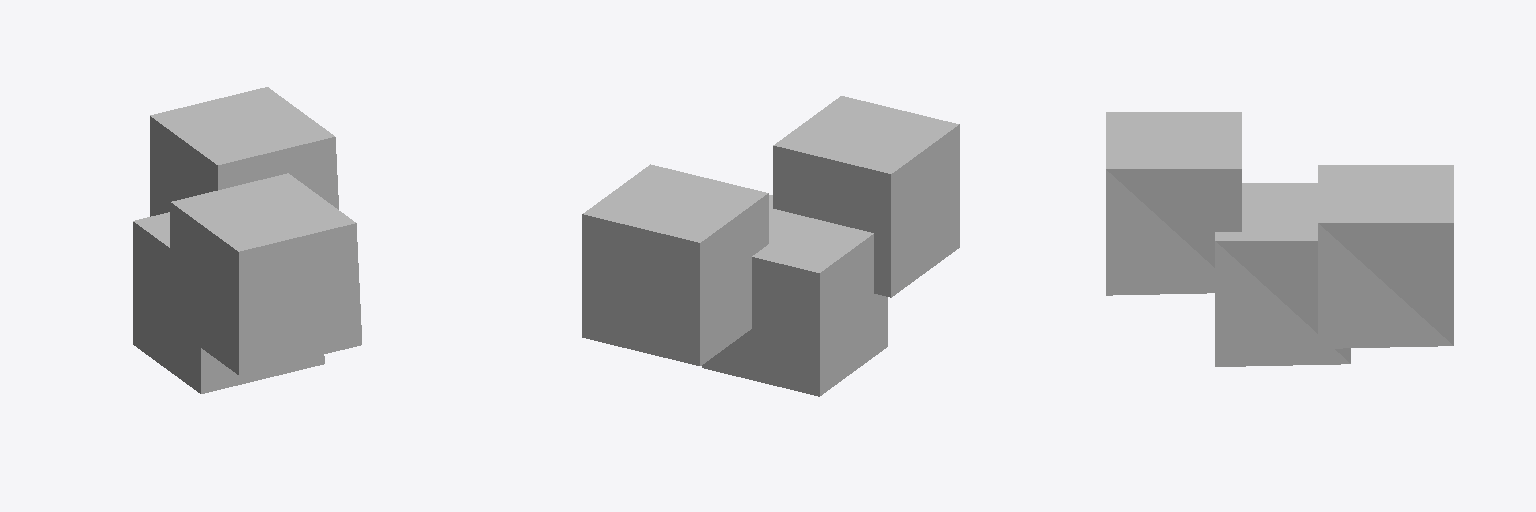
The model's file is 3cubes.obj.
3 renders of one model, left to right at view 1: azimuth 30°, elevation 25°; view 2: azimuth 150°, elevation 25°; view 3: azimuth 270°, elevation 25°, orthographic.
Visible parts, largest first — view 1: Mesh_Mesh.002_Mesh.001_Cube_Cube.001, Mesh.001_Mesh_Mesh.001_Cube_Cube.000, Mesh.002_Mesh.001_Mesh_Cube_Cube.001; view 2: Mesh.001_Mesh_Mesh.001_Cube_Cube.000, Mesh_Mesh.002_Mesh.001_Cube_Cube.001, Mesh.002_Mesh.001_Mesh_Cube_Cube.001; view 3: Mesh.001_Mesh_Mesh.001_Cube_Cube.000, Mesh_Mesh.002_Mesh.001_Cube_Cube.001, Mesh.002_Mesh.001_Mesh_Cube_Cube.001.
Boxes of the visible parts, x1,y1,x2,y2 form: Mesh_Mesh.002_Mesh.001_Cube_Cube.001: [170, 173, 361, 374]; Mesh.001_Mesh_Mesh.001_Cube_Cube.000: [150, 87, 338, 216]; Mesh.002_Mesh.001_Mesh_Cube_Cube.001: [133, 212, 324, 393]; Mesh.001_Mesh_Mesh.001_Cube_Cube.000: [582, 164, 768, 365]; Mesh_Mesh.002_Mesh.001_Cube_Cube.001: [773, 96, 959, 297]; Mesh.002_Mesh.001_Mesh_Cube_Cube.001: [702, 195, 887, 396]; Mesh.001_Mesh_Mesh.001_Cube_Cube.000: [1318, 165, 1453, 348]; Mesh_Mesh.002_Mesh.001_Cube_Cube.001: [1106, 112, 1241, 295]; Mesh.002_Mesh.001_Mesh_Cube_Cube.001: [1215, 183, 1350, 366].
Bounding box in the file's own units: 3.54 × 3.02 × 5.11.